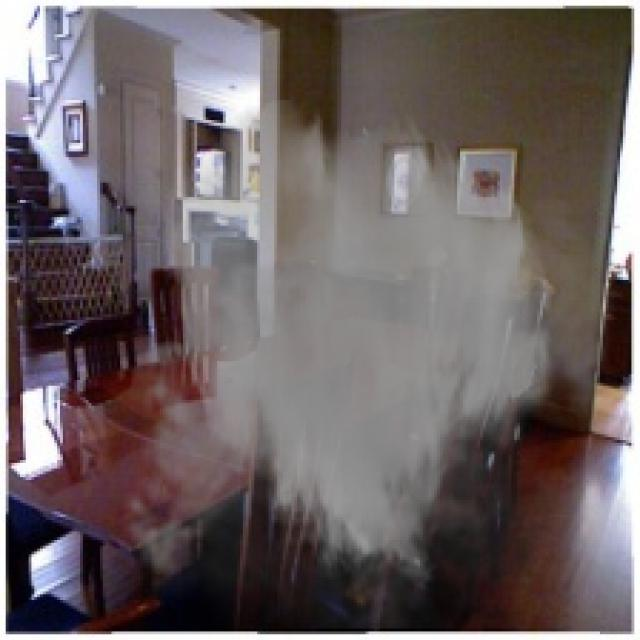smoke: (109, 94, 626, 629)
